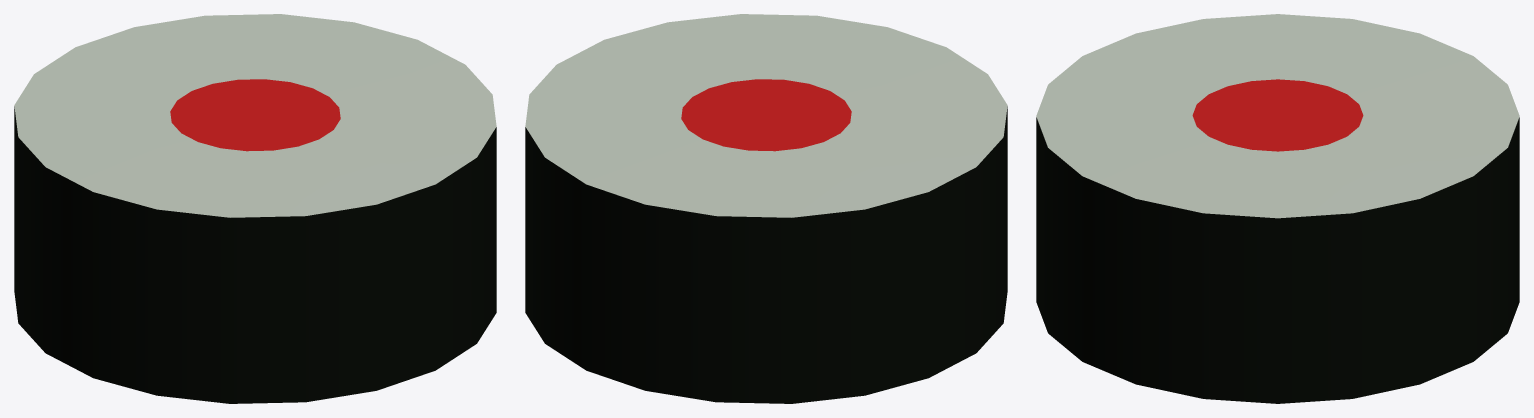
Rendered from Food Court_Sushi.fbx.
3 renders of one model, left to right at view 1: azimuth 30°, elevation 25°; view 2: azimuth 150°, elevation 25°; view 3: azimuth 270°, elevation 25°, orthographic.
Visible parts, largest first — view 1: polySurface12; view 2: polySurface12; view 3: polySurface12.
Boxes of the visible parts, x1=… form: polySurface12: x1=14, y1=14, x2=496, y2=403; polySurface12: x1=525, y1=14, x2=1007, y2=403; polySurface12: x1=1036, y1=14, x2=1519, y2=403.
Bounding box in the file's own units: 0.1212 × 0.0517 × 0.1212.
